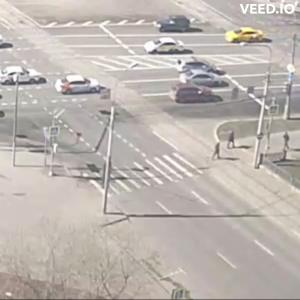car: (172, 85, 226, 106), (57, 75, 103, 96), (2, 67, 48, 87), (145, 40, 192, 57), (226, 27, 269, 45), (159, 16, 192, 35), (188, 74, 225, 89)
